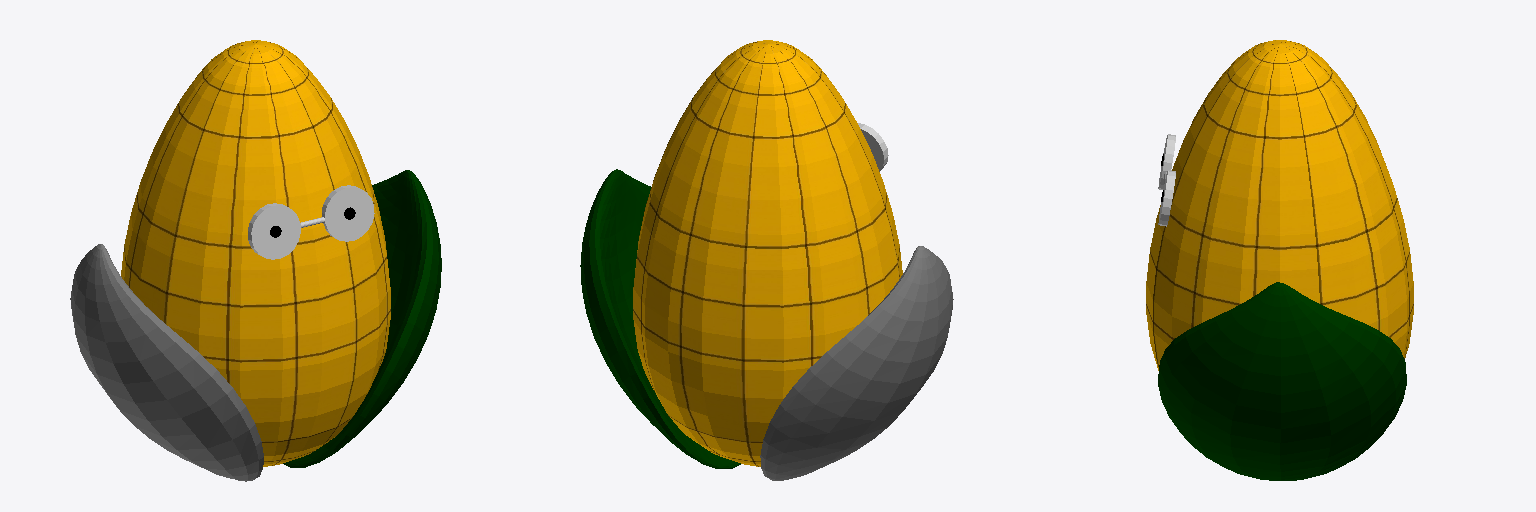
3 views of the same model, side by side, from view 1: azimuth 30°, elevation 25°; view 2: azimuth 150°, elevation 25°; view 3: azimuth 270°, elevation 25° (orthographic).
Parts seen in each view (by area): view 1: pSphere1, pasted__pasted__pSphere2 pasted__group group2, pasted__pSphere2 group, pCylinder9; view 2: pSphere1, pasted__pasted__pSphere2 pasted__group group2, pasted__pSphere2 group, pCylinder9; view 3: pSphere1, pasted__pSphere2 group, pCylinder9.
Part boxes in pixels (left/top/right/bottom): pSphere1: left=121, top=40, right=390, bottom=466; pasted__pasted__pSphere2 pasted__group group2: left=70, top=244, right=263, bottom=481; pasted__pSphere2 group: left=283, top=170, right=441, bottom=467; pCylinder9: left=248, top=185, right=374, bottom=259; pSphere1: left=633, top=40, right=902, bottom=466; pasted__pasted__pSphere2 pasted__group group2: left=760, top=246, right=953, bottom=480; pasted__pSphere2 group: left=580, top=169, right=740, bottom=468; pCylinder9: left=858, top=123, right=888, bottom=171; pSphere1: left=1146, top=40, right=1413, bottom=370; pasted__pSphere2 group: left=1158, top=282, right=1406, bottom=480; pCylinder9: left=1158, top=134, right=1175, bottom=226.
Size of the model in its own units: 2.81 by 3.32 by 1.9.
Materials: 7 (1 with a texture image).